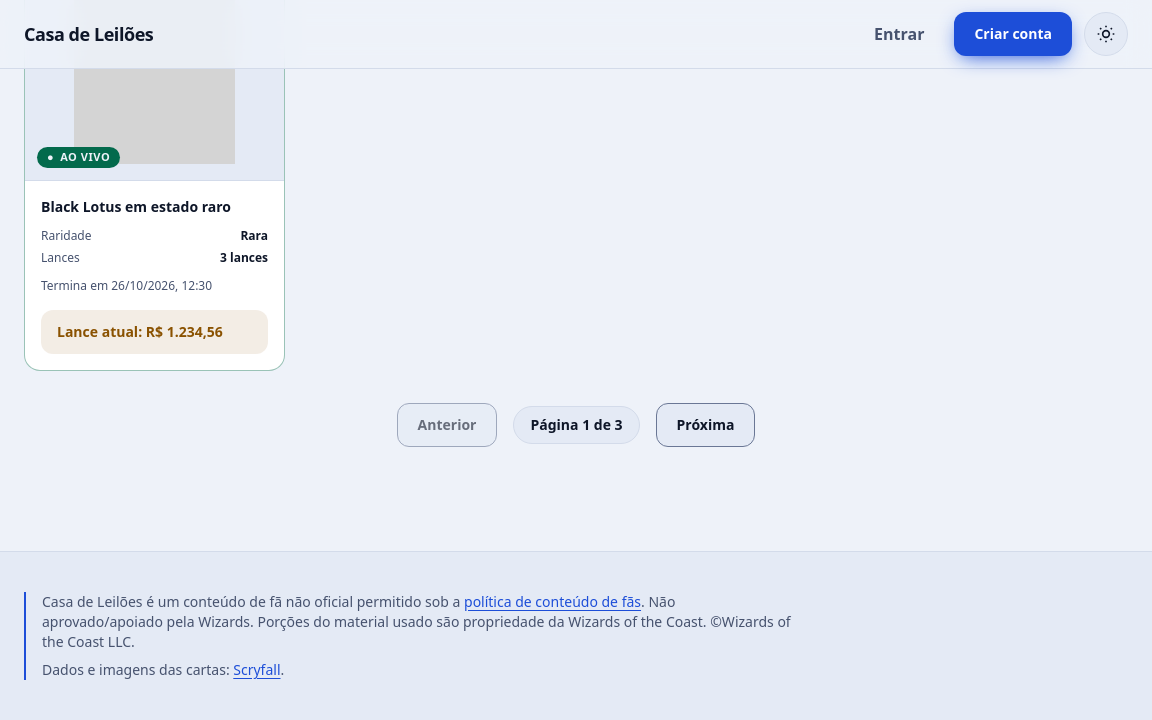
Test case: / (vitrine) › paginação: rótulos, pontas com aria-disabled e navegação
(page scrolled)
Expected: the text "Página 1 de 3" is shown, [513,406,640,444]
Step 1. Click the button "Anterior" → (447, 425), box [397,403,498,447]
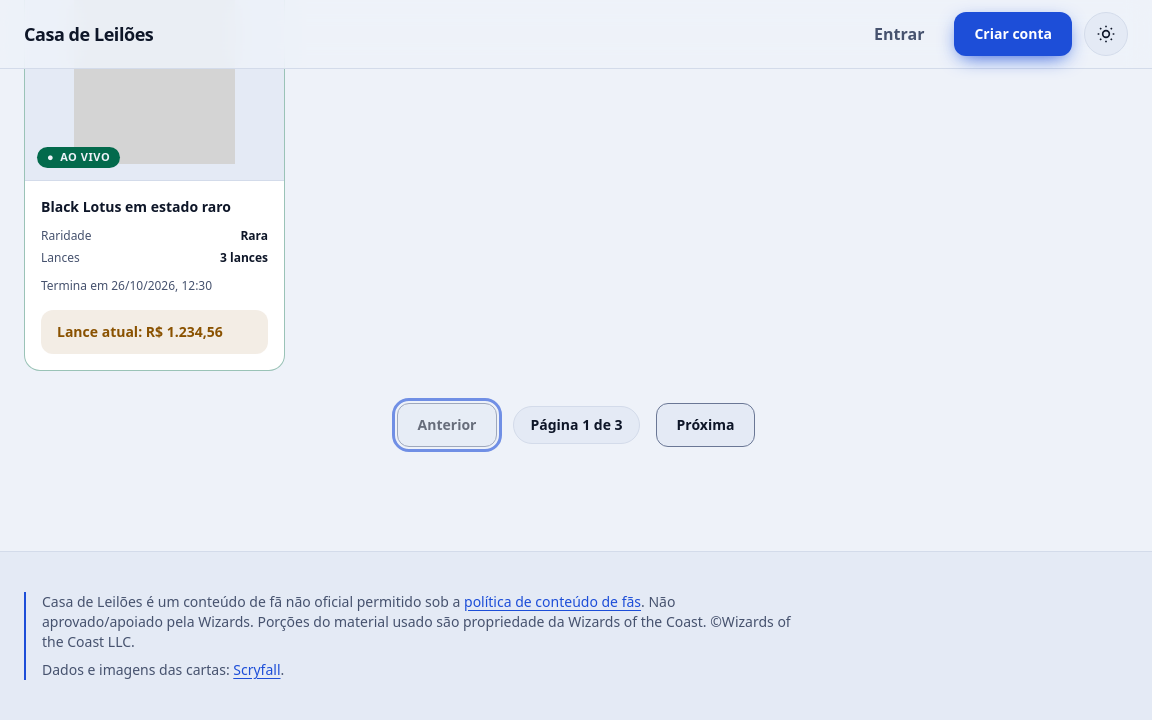
Step 2. Click the button "Próxima" → (706, 425), box [656,403,755,447]
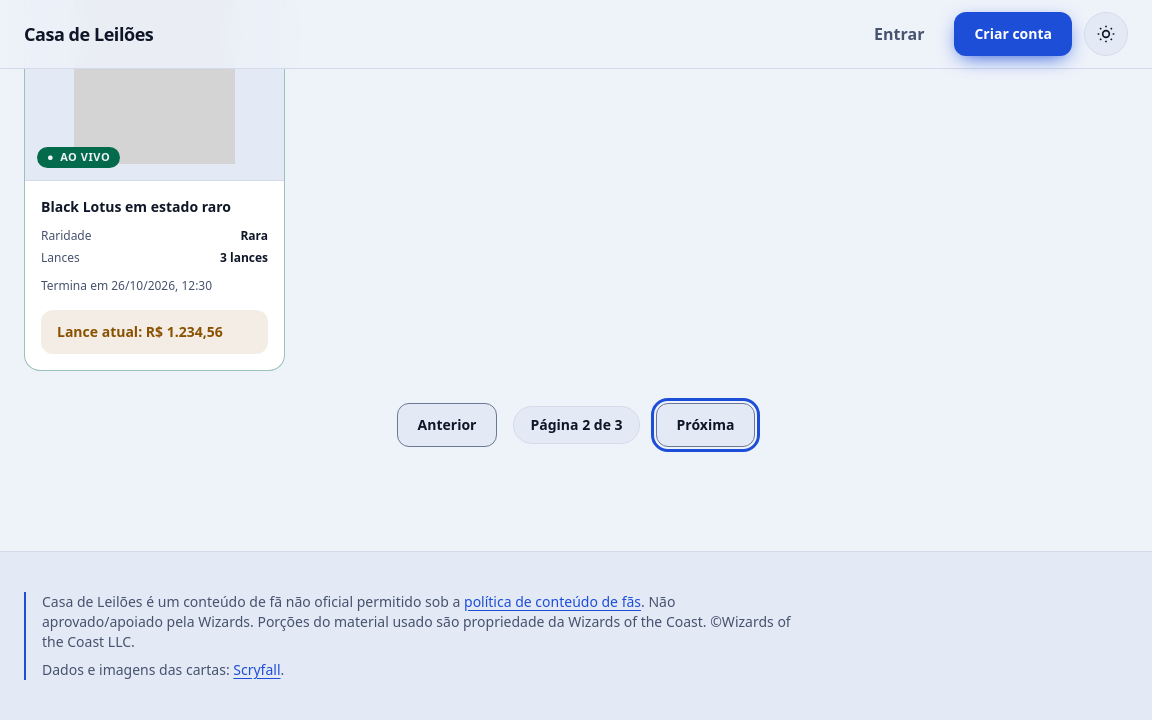
Expected: the text "Página 2 de 3" is shown, [513,406,640,444]
